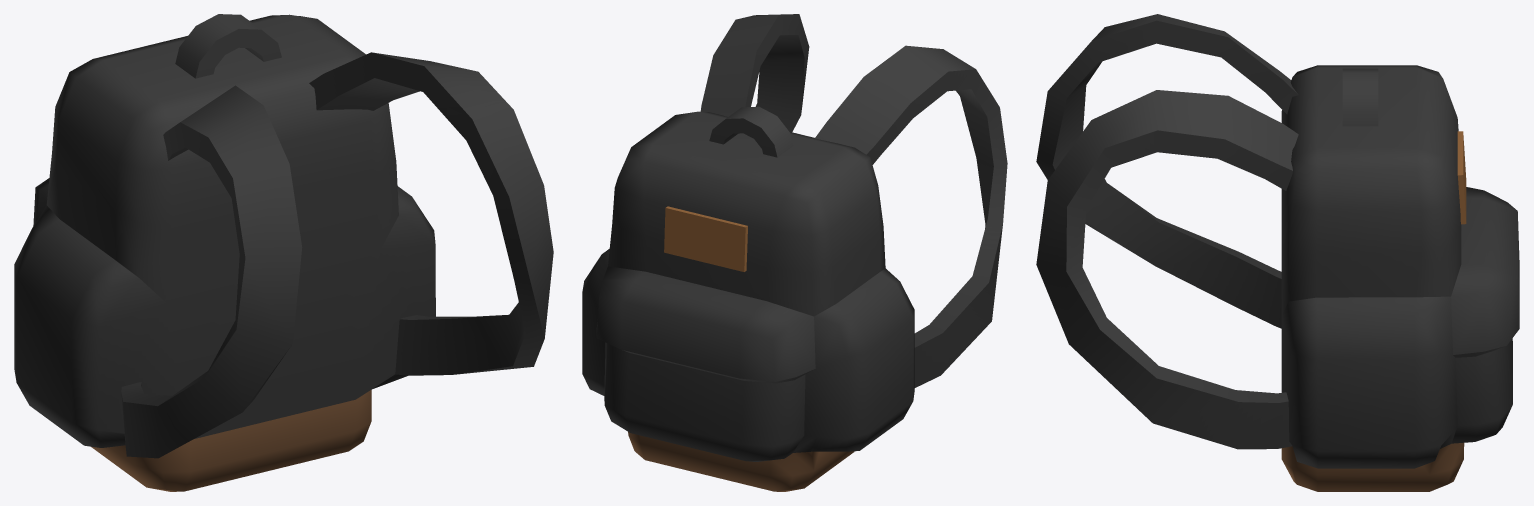
File: Bag_4.fbx
The picture shows the model from 3 angles, left to right: view 1: azimuth 30°, elevation 25°; view 2: azimuth 150°, elevation 25°; view 3: azimuth 270°, elevation 25°; orthographic projection. The views are drawn at different scales.
Visible parts, largest first — view 1: Bag_4; view 2: Bag_4; view 3: Bag_4.
Boxes of the visible parts, bbox=[...] form: Bag_4: bbox=[14, 14, 553, 491]; Bag_4: bbox=[582, 14, 1007, 491]; Bag_4: bbox=[1036, 14, 1519, 491].
Size of the model in its own units: 45.72 by 52.7 by 57.71.
